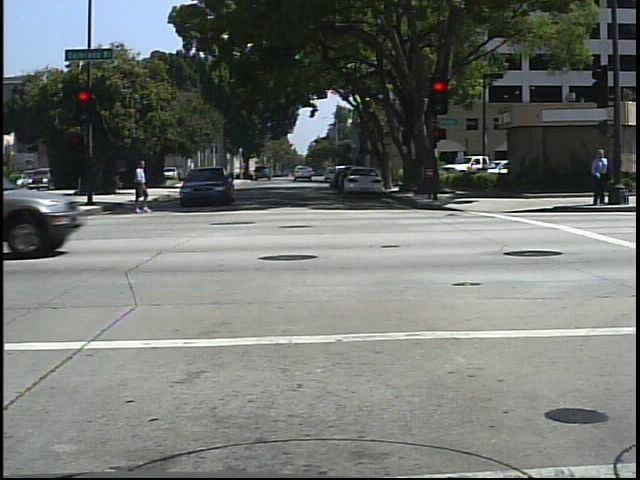person: (126, 156, 157, 220), (589, 142, 613, 209)
